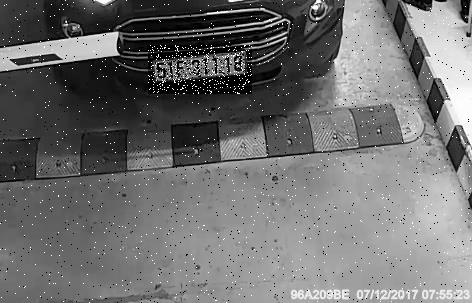License-plate: (149, 46, 253, 95)
